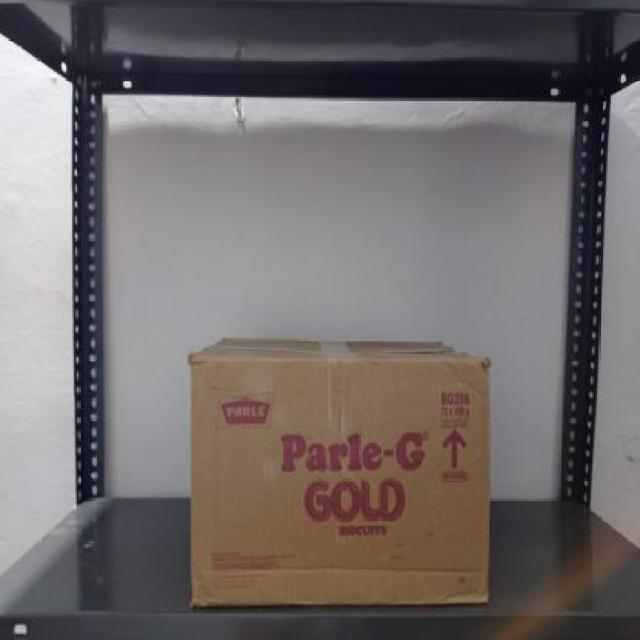box: (190, 355, 495, 608)
